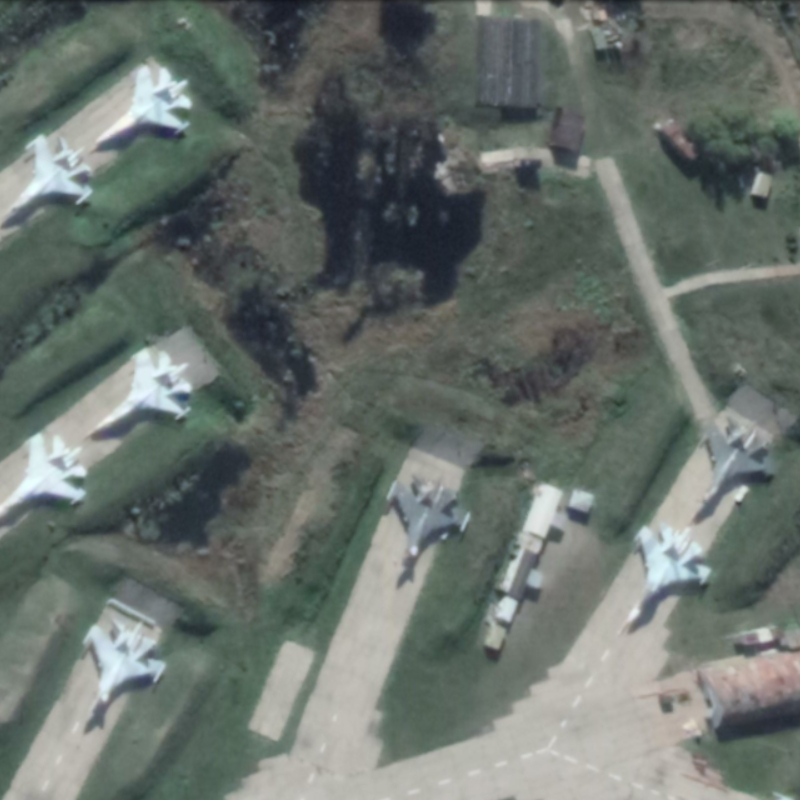A1: (82, 344, 196, 442), (617, 522, 714, 636), (383, 473, 474, 588), (79, 617, 168, 734), (690, 413, 779, 528), (87, 62, 195, 156), (1, 130, 95, 234), (1, 429, 89, 533)
